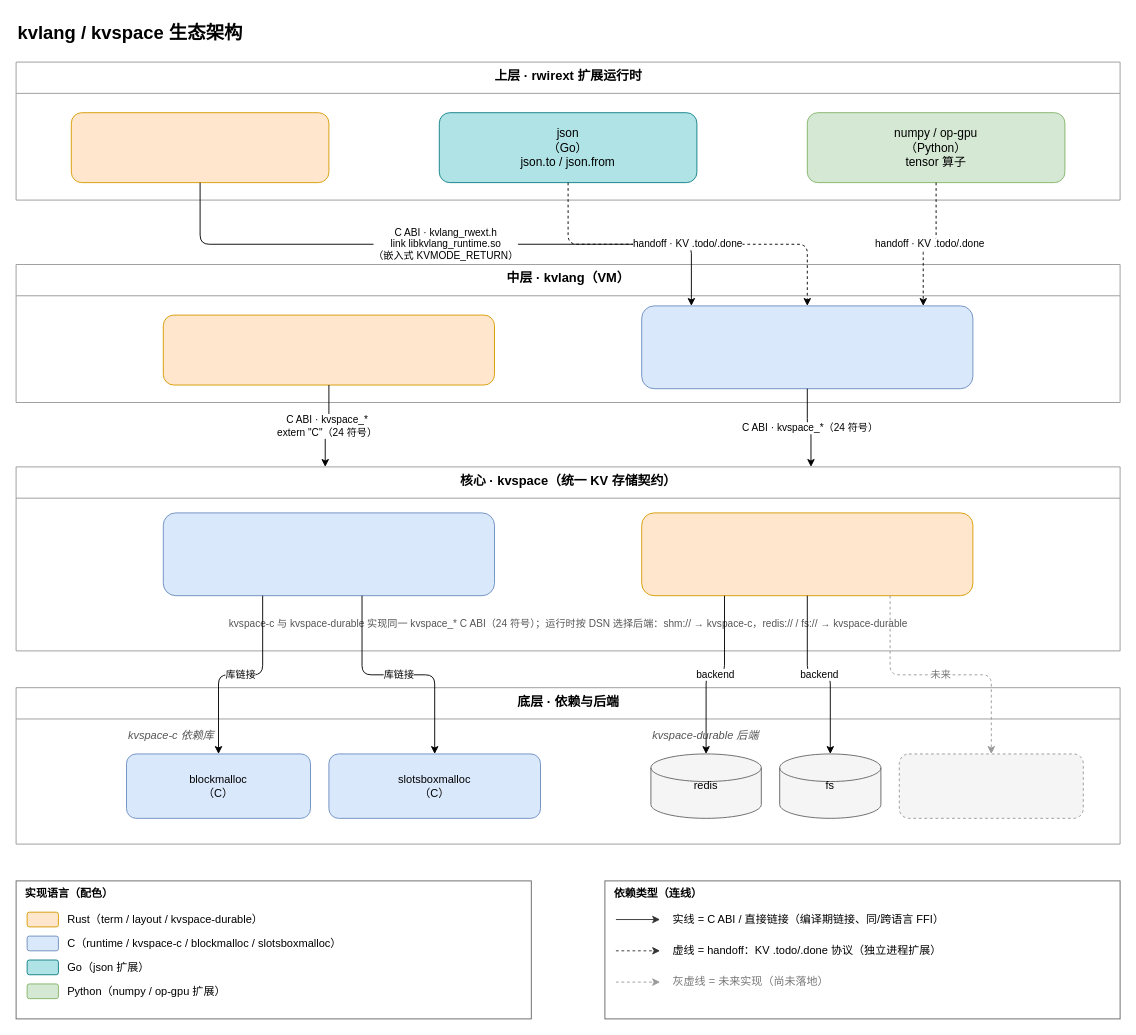
This 1136x1035 diagram has some shape labels left out. The centre of each missing label's shape, as x and y in pixels:
"kvspace-c （C） 实现 kvspace_* C ABI" belongs at (x=328, y=554).
"kvspace-durable （Rust · cdylib） 实现 kvspace_* C ABI" belongs at (x=807, y=554).
"layout （Rust） 编译期：parser / lower / layoutcode" belongs at (x=328, y=349).
"runtime （C） 执行期：fetch-decode-execute 对外暴露 kvlang_runtime.h + kvlang_rwext.h" belongs at (x=807, y=347).
"s3 / tikv … （未来）" belongs at (x=990, y=785).
"term （Rust） print / println / cerr / input" belongs at (x=199, y=147).
